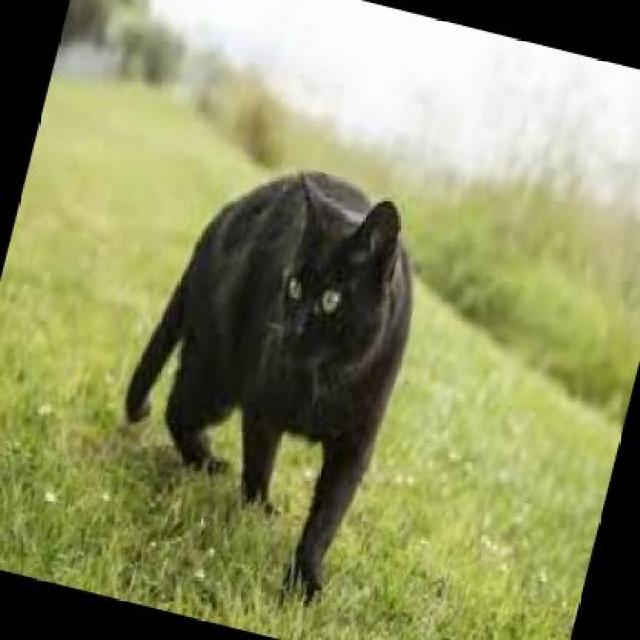animals: (87, 128, 455, 607)
